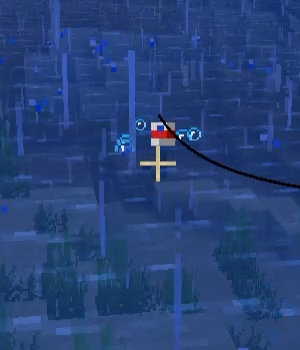up: (145, 117, 179, 187)
